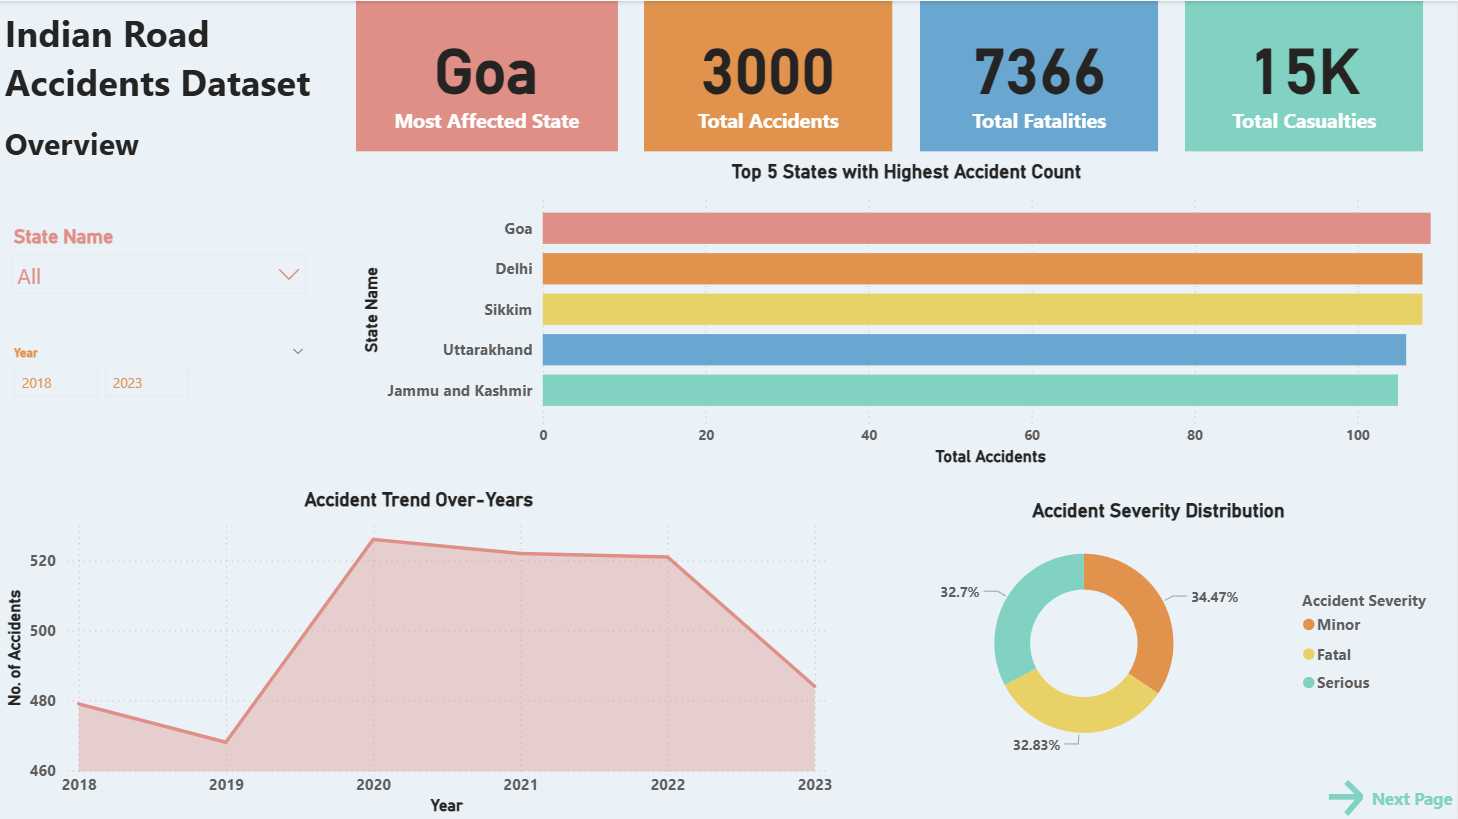

The page's visual inventory and layout, read from the dashboard file:
{"tool":"powerbi","page":{"name":"Page 1","canvas":[1280,720],"ordinal":0},"visuals":[{"type":"card","fields":{"Values":["CountNonNull(accident_prediction_india (2).Accident Location Details)"]},"box":[566.7,0,217.9,132.3],"z":0},{"type":"card","fields":{"Values":["Sum(accident_prediction_india (2).Number of Casualties)"]},"box":[1041.7,0,209.1,132.3],"z":1000},{"type":"card","fields":{"Values":["Sum(accident_prediction_india (2).Number of Fatalities)"]},"box":[808.6,0,209.1,132.3],"z":2000},{"type":"card","fields":{"Values":["Min(accident_prediction_india (2).State Name)"]},"box":[313.2,0,229.5,132.3],"z":3000},{"type":"barChart","title":"Top 5 States with Highest Accident Count","fields":{"Category":["most affected state.State Name"],"Y":["Sum(most affected state.Count)"]},"box":[313.5,139.6,966.7,273.1],"z":4000},{"type":"donutChart","title":"Accident Severity Distribution","fields":{"Category":["Accident Severity.Accident Severity"],"Y":["Sum(Accident Severity.Count)"]},"box":[756,437.3,524.2,234.4],"z":5000},{"type":"lineChart","title":"Accident Trend Over-Years","fields":{"Category":["accident.Year"],"Y":["Max(accident.Count)"]},"box":[0,428,737.3,291.8],"z":6000},{"type":"slicer","fields":{"Values":["accident_prediction_india.State Name"]},"box":[0,191.6,280.1,84.6],"z":7000},{"type":"slicer","fields":{"Values":["accident_prediction_india.Year"]},"box":[0,297.6,280.1,79.8],"z":8000},{"type":"textbox","box":[0,0,302.5,101.2],"z":9000},{"type":"textbox","box":[0,101.2,140.1,52.5],"z":10000},{"type":"actionButton","box":[1161.7,679.6,118.5,40.4],"z":11000}]}

Visuals, with their boxes in screenshot pixels (x1, y1, x2, y2), scaled from the page's 1280x720 canvas onto the 1458x819 screenshot:
card - CountNonNull(accident_prediction_india (2).Accident Location Details): l=646, t=0, r=894, b=150
card - Sum(accident_prediction_india (2).Number of Casualties): l=1187, t=0, r=1425, b=150
card - Sum(accident_prediction_india (2).Number of Fatalities): l=921, t=0, r=1159, b=150
card - Min(accident_prediction_india (2).State Name): l=357, t=0, r=618, b=150
"Top 5 States with Highest Accident Count" barChart: l=357, t=159, r=1457, b=469
"Accident Severity Distribution" donutChart: l=861, t=497, r=1457, b=764
"Accident Trend Over-Years" lineChart: l=0, t=487, r=840, b=818
slicer - accident_prediction_india.State Name: l=0, t=218, r=319, b=314
slicer - accident_prediction_india.Year: l=0, t=339, r=319, b=429
textbox: l=0, t=0, r=345, b=115
textbox: l=0, t=115, r=160, b=175
actionButton: l=1323, t=773, r=1457, b=818
